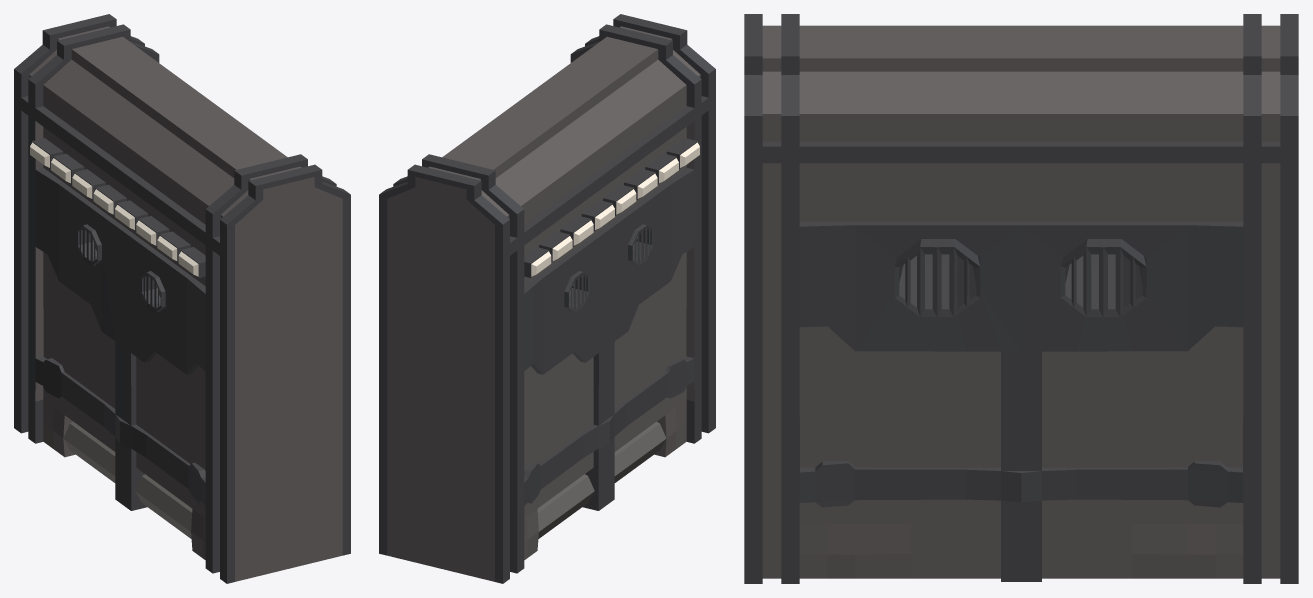
File: WallBig 1.fbx
3 views of the same model, side by side, from view 1: azimuth 30°, elevation 25°; view 2: azimuth 150°, elevation 25°; view 3: azimuth 270°, elevation 25° (orthographic). The views are drawn at different scales.
Parts seen in each view (by area): view 1: WallBig, wallBigVentilationR, wallBigVentilationL; view 2: WallBig, wallBigVentilationR, wallBigVentilationL; view 3: WallBig, wallBigVentilationR, wallBigVentilationL.
Part boxes in pixels (<box>): WallBig: <box>14,14,350,583</box>; wallBigVentilationR: <box>140,271,165,312</box>; wallBigVentilationL: <box>76,224,101,265</box>; WallBig: <box>379,14,715,583</box>; wallBigVentilationR: <box>628,224,653,265</box>; wallBigVentilationL: <box>564,271,589,312</box>; WallBig: <box>744,14,1298,583</box>; wallBigVentilationR: <box>894,239,980,317</box>; wallBigVentilationL: <box>1060,239,1146,317</box>.
Size of the model in its own units: 0.7852 by 2.03 by 2.
